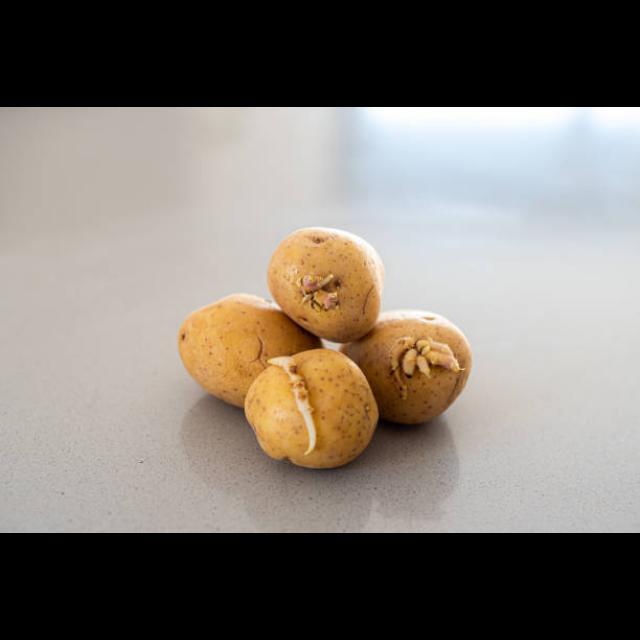Sprouted potato: (169, 284, 333, 406), (338, 308, 482, 437), (236, 344, 384, 468), (264, 220, 382, 344)
